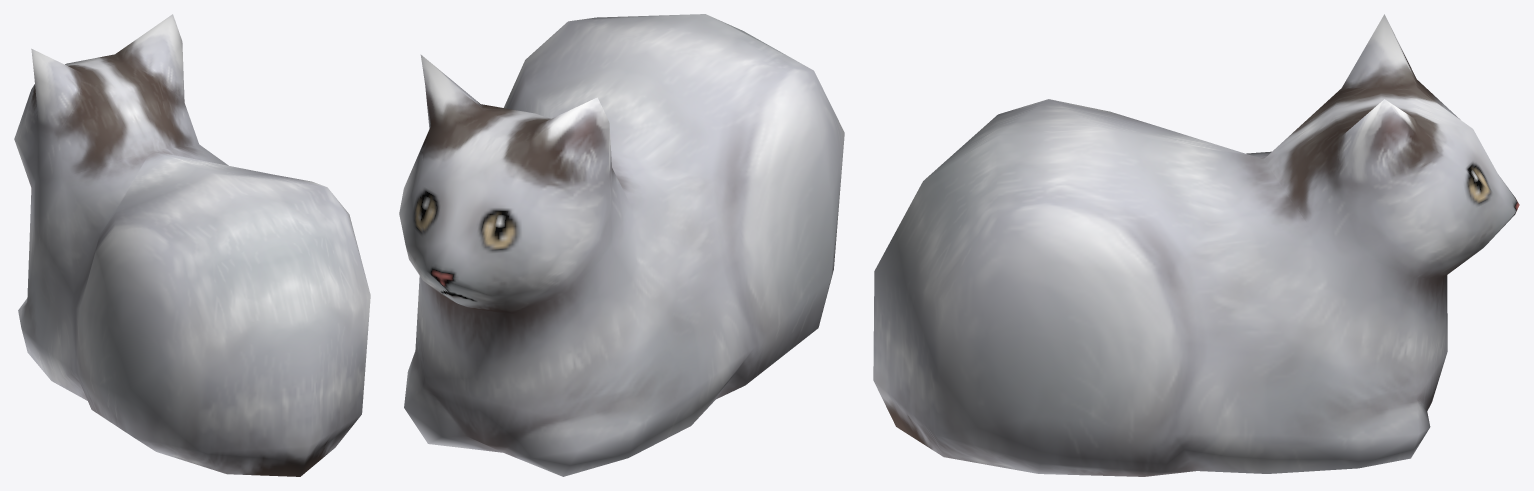
The model's file is CatLoafWhite256.fbx.
3 views of the same model, side by side, from view 1: azimuth 30°, elevation 25°; view 2: azimuth 150°, elevation 25°; view 3: azimuth 270°, elevation 25° (orthographic). The views are drawn at different scales.
Parts seen in each view (by area): view 1: CatLoafWhite256; view 2: CatLoafWhite256; view 3: CatLoafWhite256.
Part boxes in pixels (left/top/right/bottom): CatLoafWhite256: left=14, top=14, right=370, bottom=476; CatLoafWhite256: left=399, top=14, right=844, bottom=476; CatLoafWhite256: left=873, top=14, right=1519, bottom=476.
Size of the model in its own units: 0.2077 by 0.2561 by 0.3957.
1 material, 1 textured.
